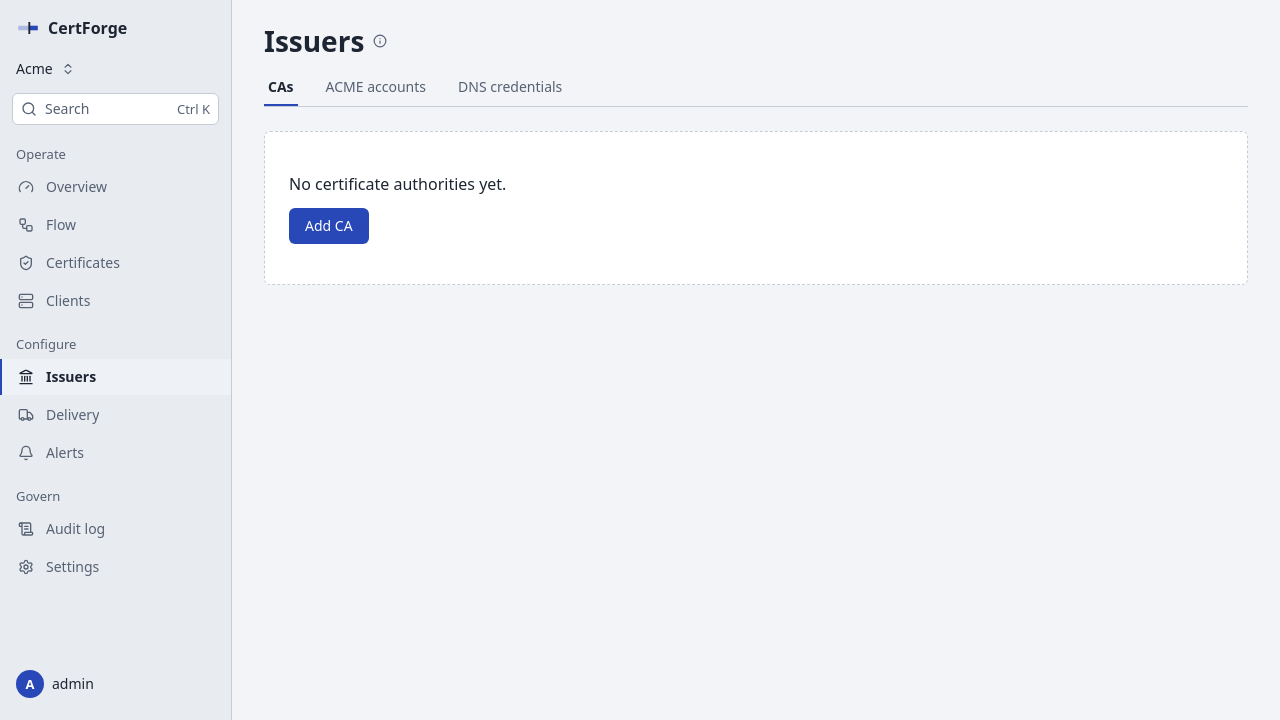
Test: renders the custom preset once, without crashing on its empty directory URL
Click the button "Add CA": (329, 226) top-left (289, 208), bottom-right (369, 244)
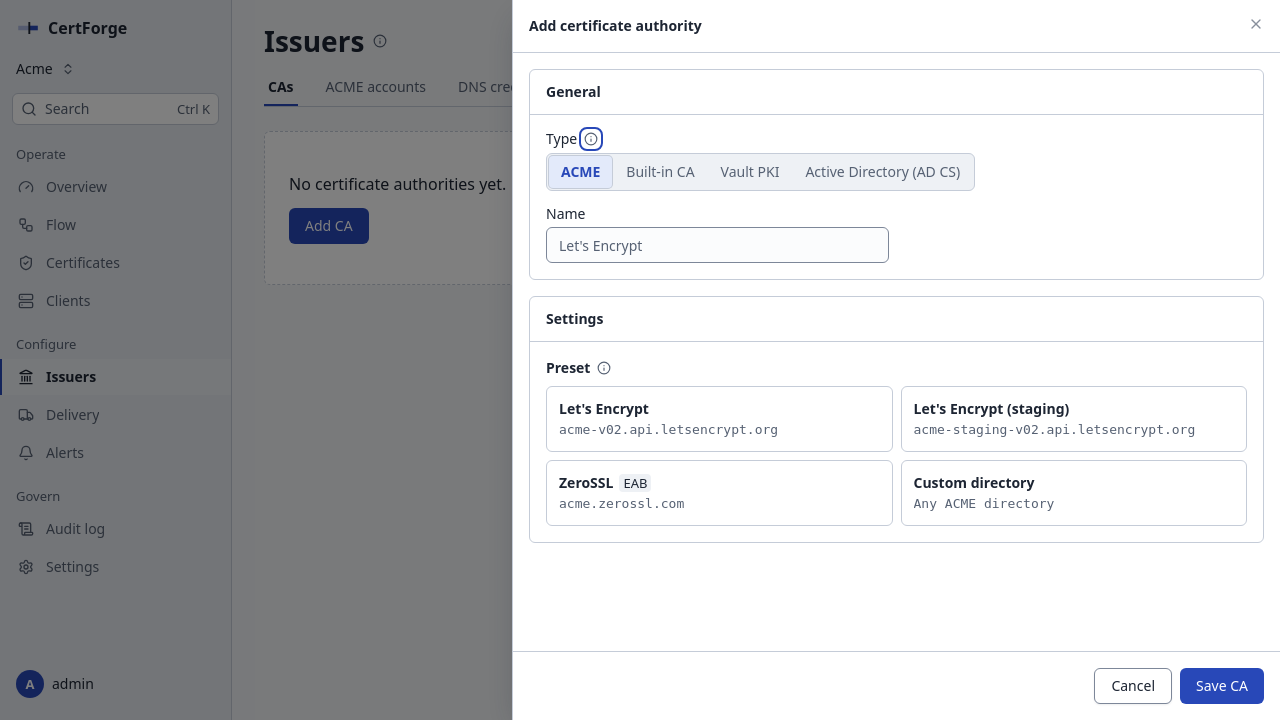
Result: the number of buttons "Custom directory Any ACME directory" is 1 at top-left (900, 460), bottom-right (1247, 526)
